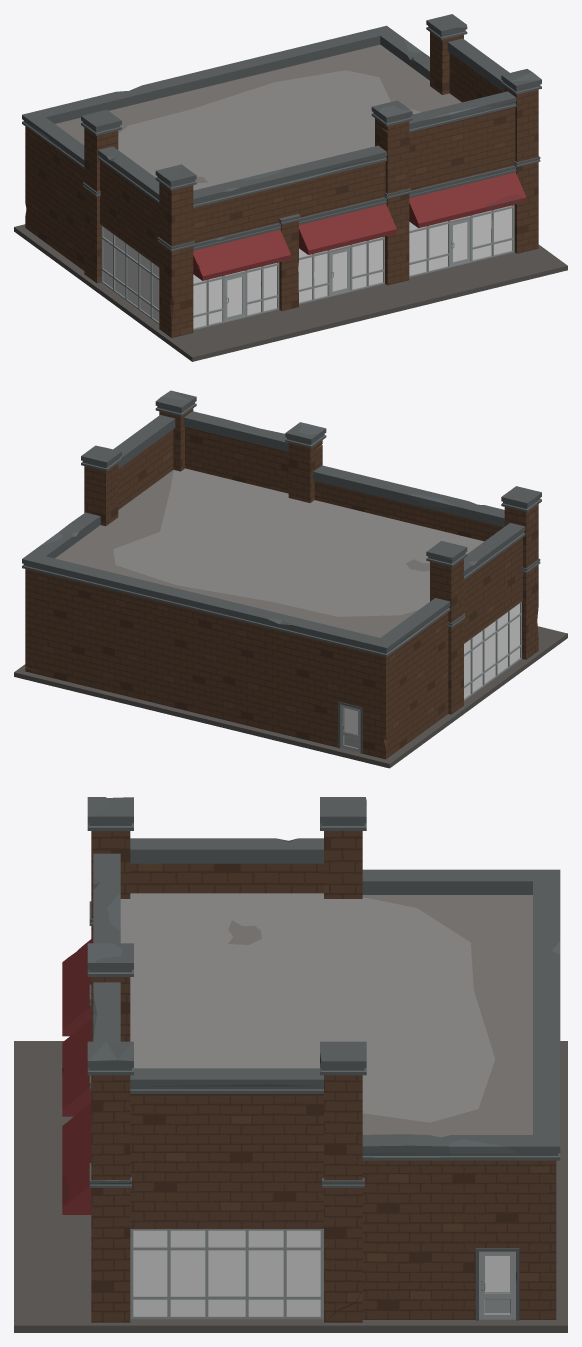
File: SM_Bldg_City_Shop_Big_01.fbx
3 renders of one model, top to bottom at view 1: azimuth 30°, elevation 25°; view 2: azimuth 150°, elevation 25°; view 3: azimuth 270°, elevation 25°, orthographic. The views are drawn at different scales.
Parts seen in each view (by area): view 1: SM_Bldg_City_Shop_Big_01, SM_Bldg_City_Shop_Big_01_Glass; view 2: SM_Bldg_City_Shop_Big_01, SM_Bldg_City_Shop_Big_01_Glass; view 3: SM_Bldg_City_Shop_Big_01, SM_Bldg_City_Shop_Big_01_Glass.
Boxes of the visible parts, bbox=[...] form: SM_Bldg_City_Shop_Big_01: bbox=[14, 14, 567, 361]; SM_Bldg_City_Shop_Big_01_Glass: bbox=[103, 205, 512, 328]; SM_Bldg_City_Shop_Big_01: bbox=[14, 390, 567, 768]; SM_Bldg_City_Shop_Big_01_Glass: bbox=[464, 603, 519, 698]; SM_Bldg_City_Shop_Big_01: bbox=[14, 797, 567, 1332]; SM_Bldg_City_Shop_Big_01_Glass: bbox=[133, 1230, 320, 1316].
Bounding box in the file's own units: 1740 × 772 × 1430.
